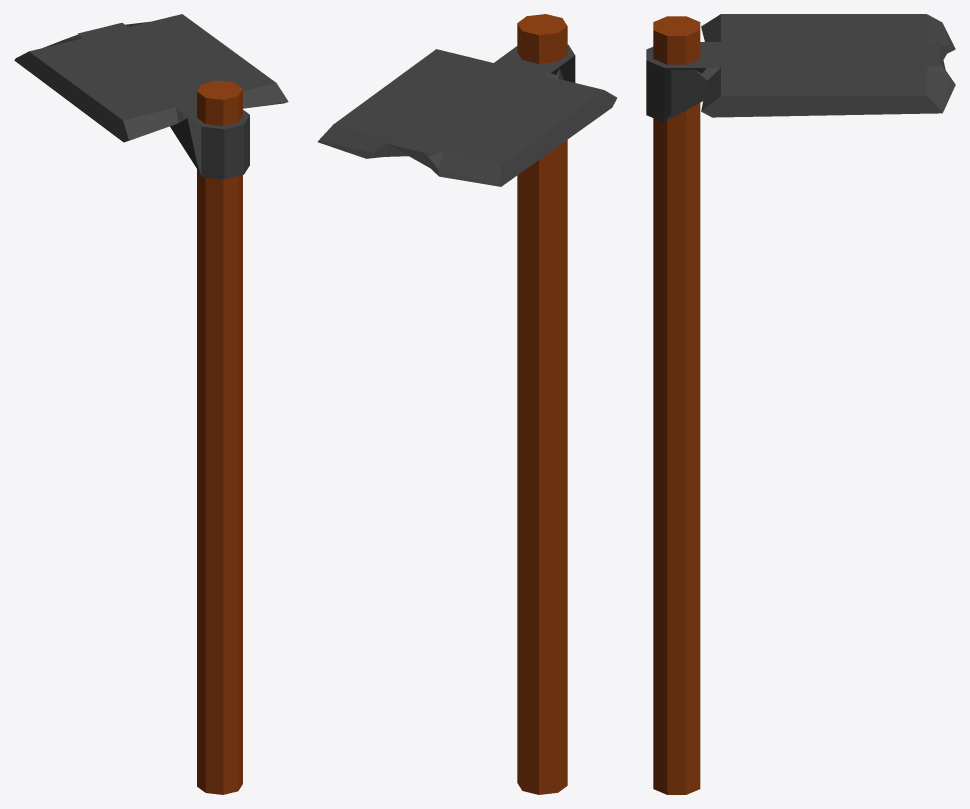
Rendered from enxada.glb.
3 views of the same model, side by side, from view 1: azimuth 30°, elevation 25°; view 2: azimuth 150°, elevation 25°; view 3: azimuth 270°, elevation 25° (orthographic). The views are drawn at different scales.
Parts seen in each view (by area): view 1: Cube; view 2: Cube; view 3: Cube.
Boxes of the visible parts, x1,y1,x2,y2 form: Cube: (14, 14, 288, 794); Cube: (318, 14, 616, 794); Cube: (646, 14, 955, 794).
Size of the model in its own units: 9.02 by 35.65 by 13.19.
